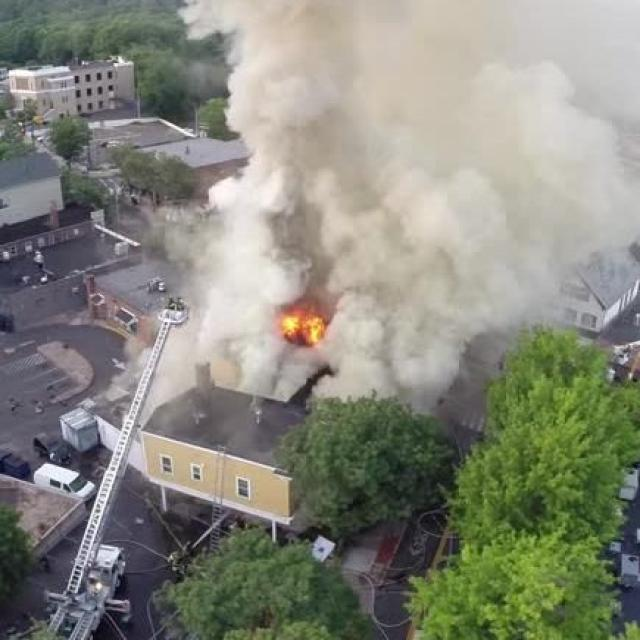Fire: (276, 308, 331, 354)
Smoke: (192, 0, 640, 401)
